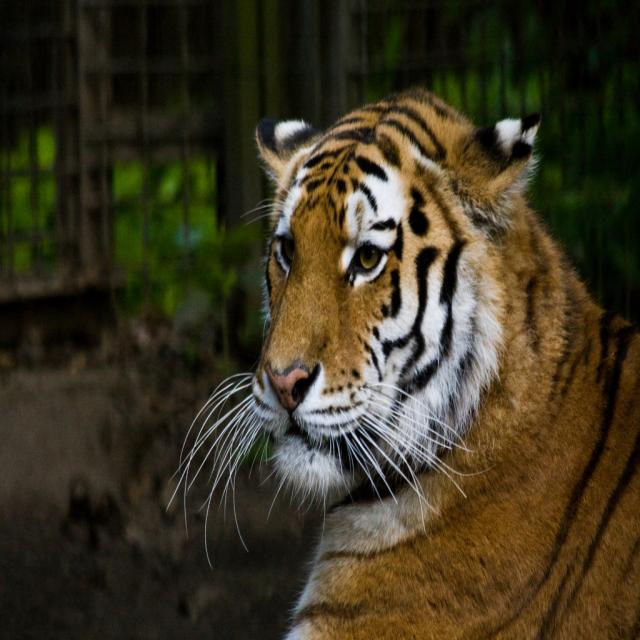Tiger: (163, 86, 640, 639)
